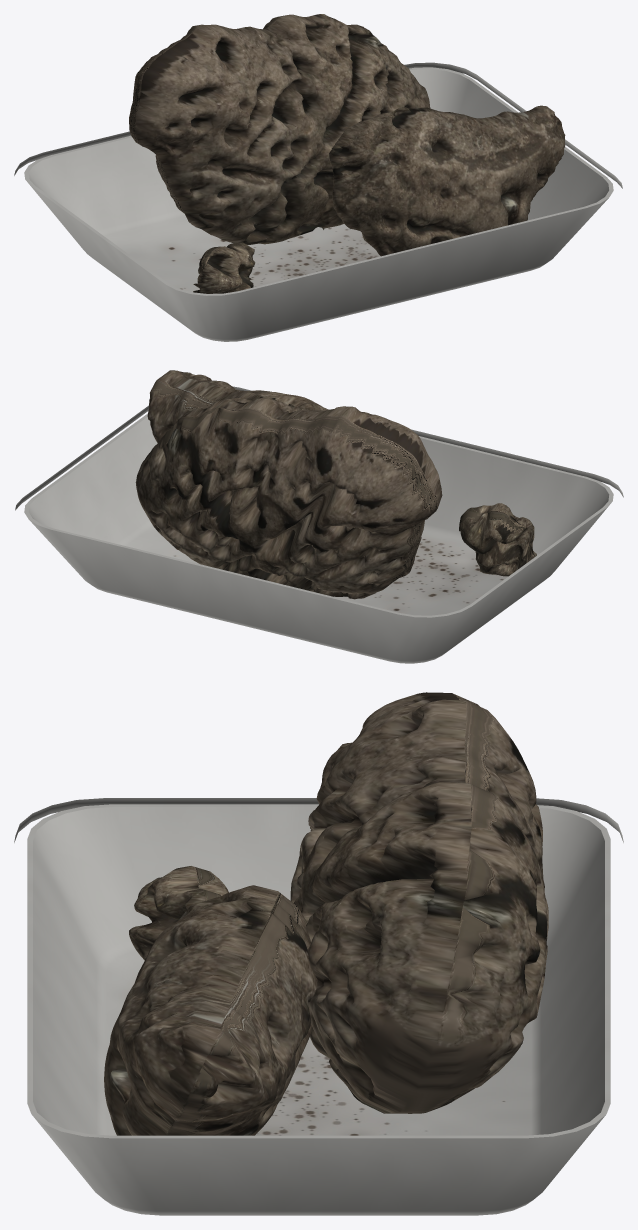
The model's file is cupinzeiro_20_03_web.glb.
3 renders of one model, top to bottom at view 1: azimuth 30°, elevation 25°; view 2: azimuth 150°, elevation 25°; view 3: azimuth 270°, elevation 25°, orthographic. The views are drawn at different scales.
Parts seen in each view (by area): view 1: Bandeja_Plastica_M20, Cupinzeiro_Fragmento_A, Cupinzeiro_Fragmento_B, Cupinzeiro_Fragmento_C; view 2: Bandeja_Plastica_M20, Cupinzeiro_Fragmento_A, Cupinzeiro_Fragmento_B, Cupinzeiro_Fragmento_C; view 3: Bandeja_Plastica_M20, Cupinzeiro_Fragmento_A, Cupinzeiro_Fragmento_B, Cupinzeiro_Fragmento_C.
Part boxes in pixels (<box>): Bandeja_Plastica_M20: <box>14,62,622,341</box>; Cupinzeiro_Fragmento_A: <box>129,14,430,244</box>; Cupinzeiro_Fragmento_B: <box>329,105,565,256</box>; Cupinzeiro_Fragmento_C: <box>193,242,255,293</box>; Bandeja_Plastica_M20: <box>15,386,623,663</box>; Cupinzeiro_Fragmento_A: <box>135,397,442,599</box>; Cupinzeiro_Fragmento_B: <box>147,370,328,442</box>; Cupinzeiro_Fragmento_C: <box>459,503,536,576</box>; Bandeja_Plastica_M20: <box>14,798,623,1215</box>; Cupinzeiro_Fragmento_A: <box>290,692,548,1113</box>; Cupinzeiro_Fragmento_B: <box>104,885,317,1135</box>; Cupinzeiro_Fragmento_C: <box>129,866,228,960</box>.
Size of the model in its own units: 0.277 by 0.1237 by 0.207.
Materials: 2 (2 with a texture image).
